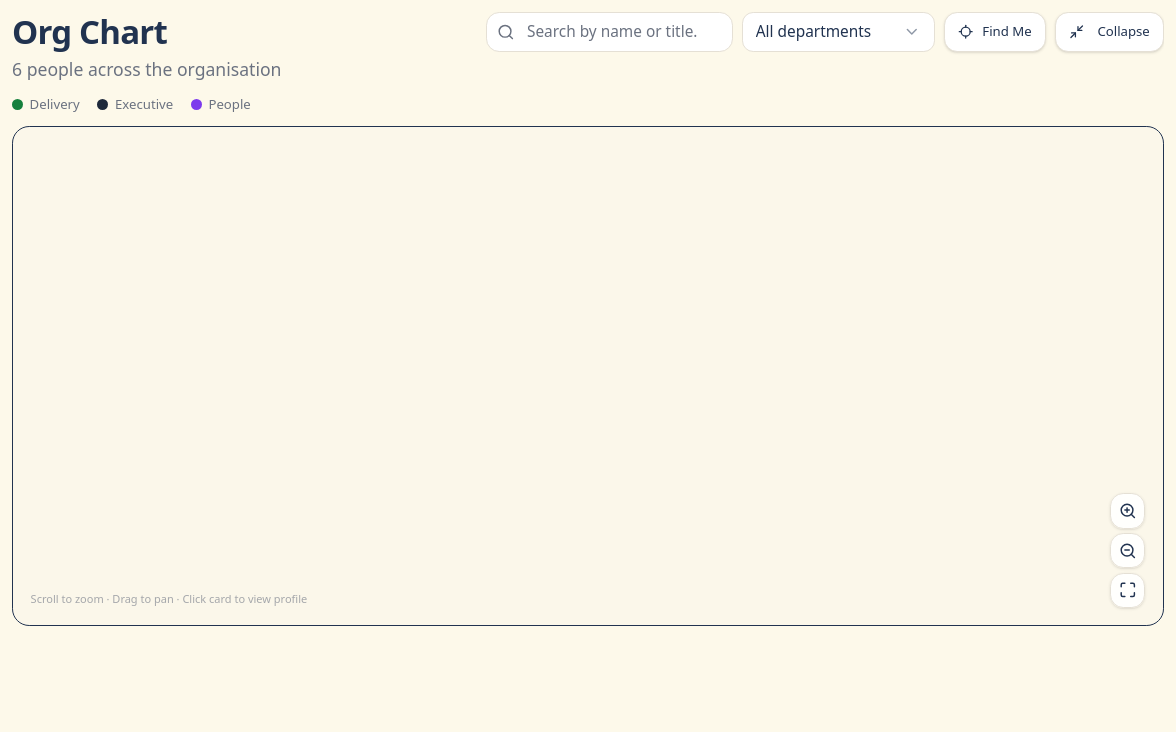
Test: OrgChartContent › Find Me searches for current user
Click the button "Find Me" at {"x": 995, "y": 32}, box 944,12 -> 1046,52
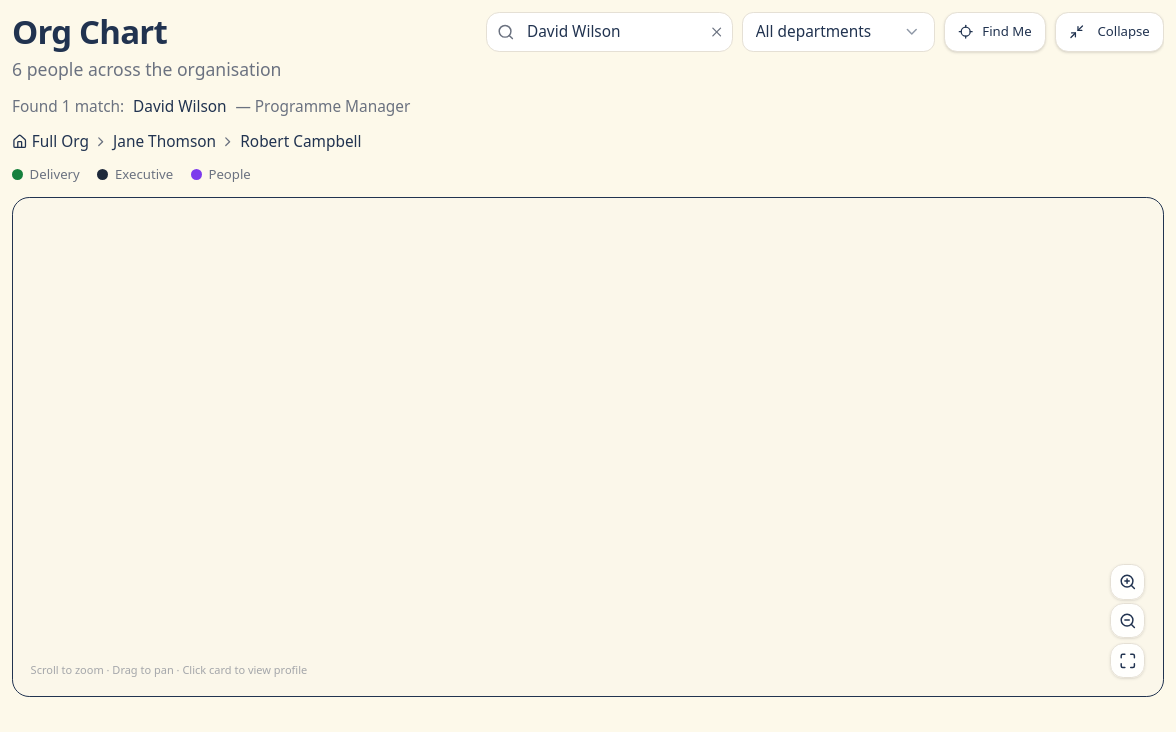
Check: the field with placeholder "Search by name or title..." holds "David Wilson", box 486,12 -> 733,52
